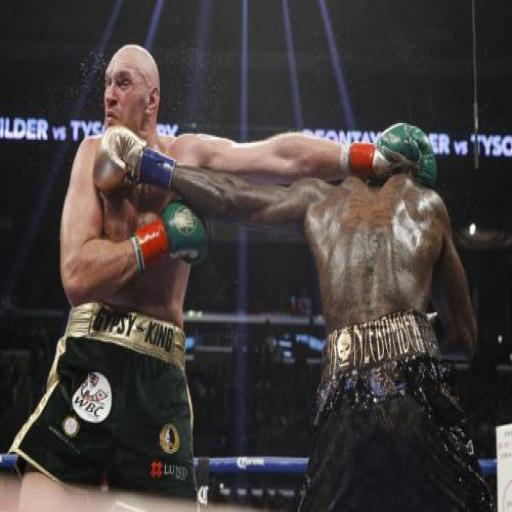boxing: (27, 32, 397, 512), (92, 118, 495, 510)
